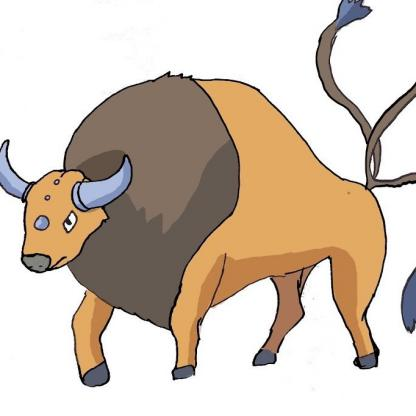Tauros: (1, 1, 416, 390)
